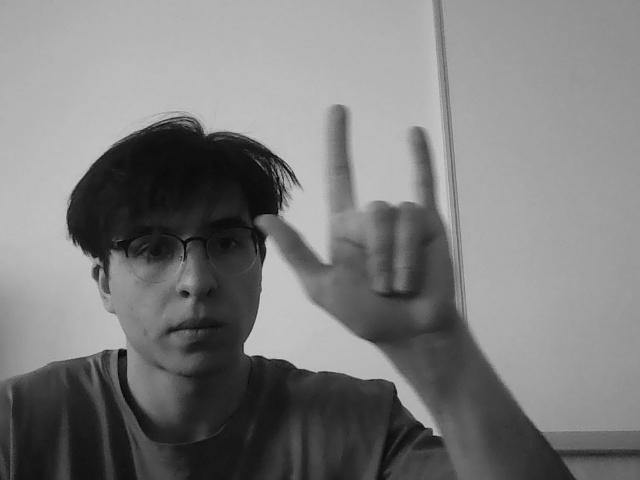I_Love_You: (294, 108, 464, 328)
